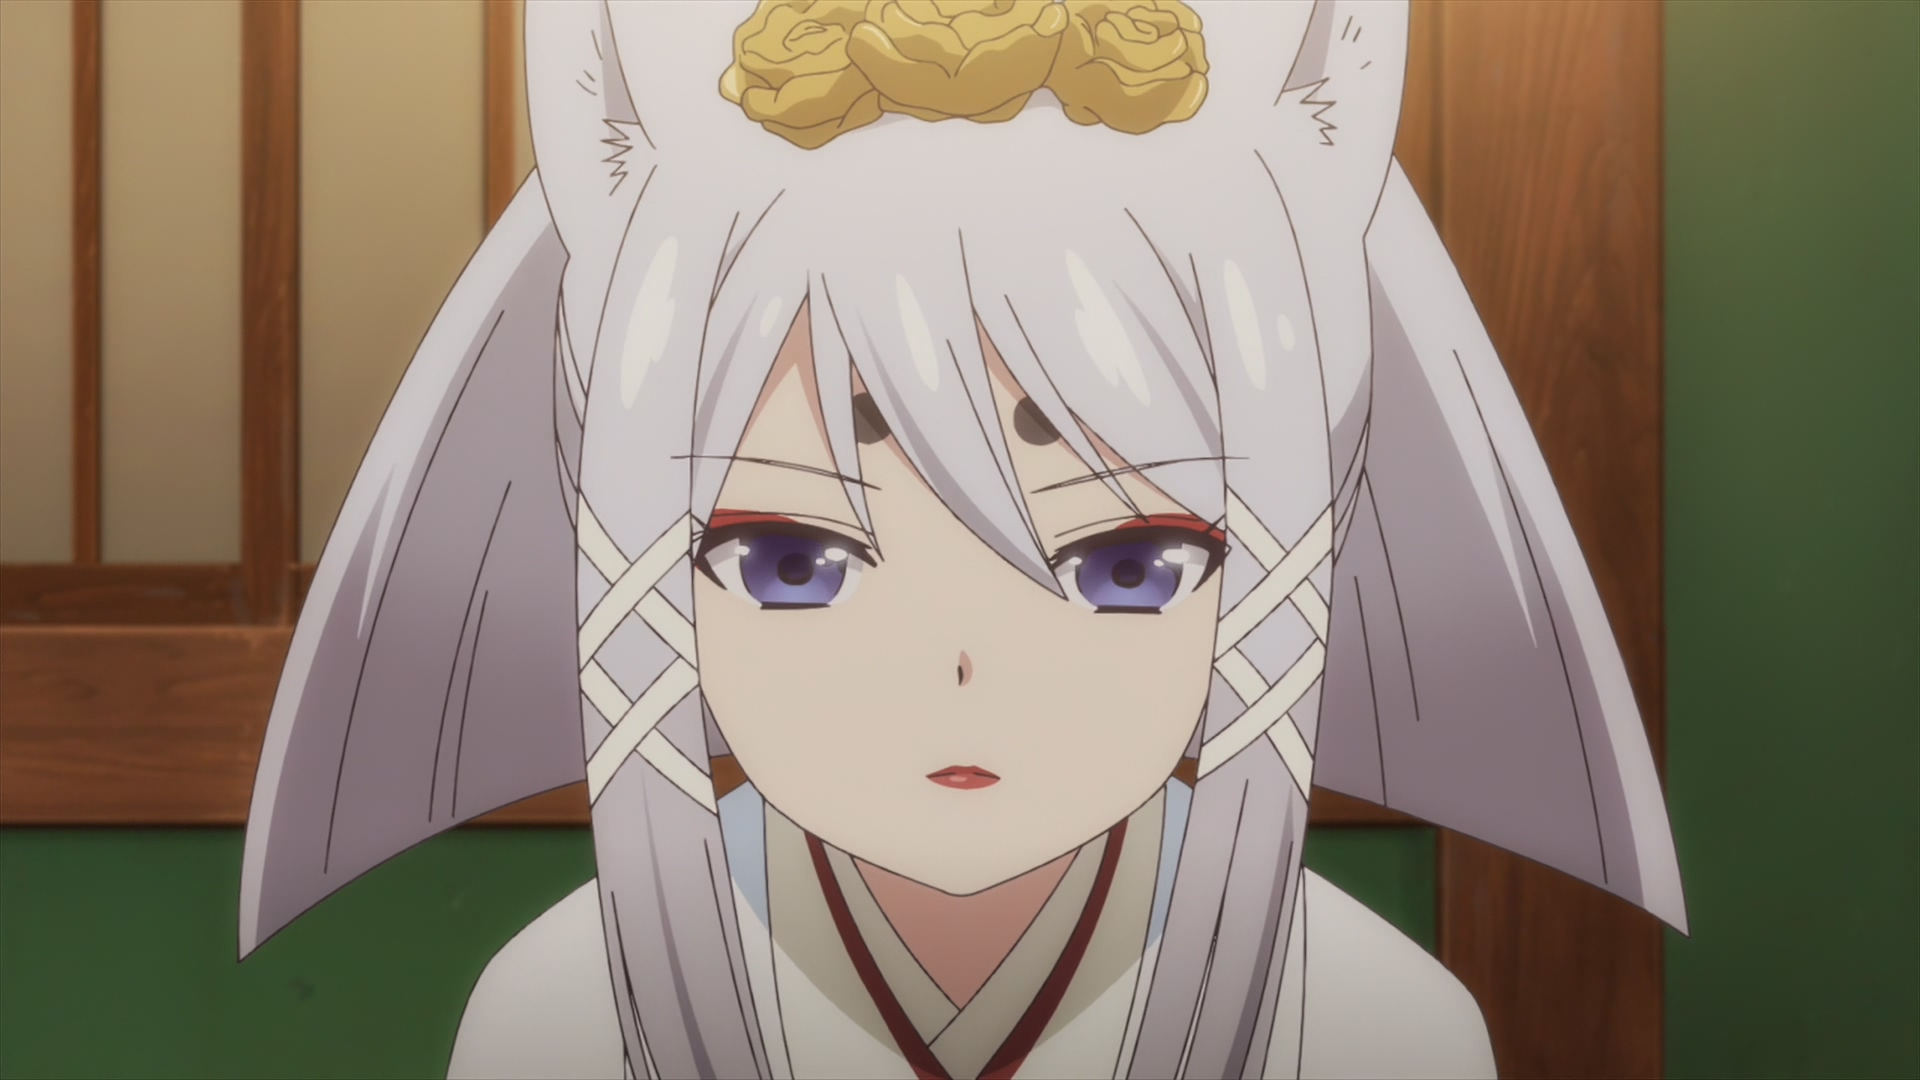柊: (239, 1, 1687, 1080)
